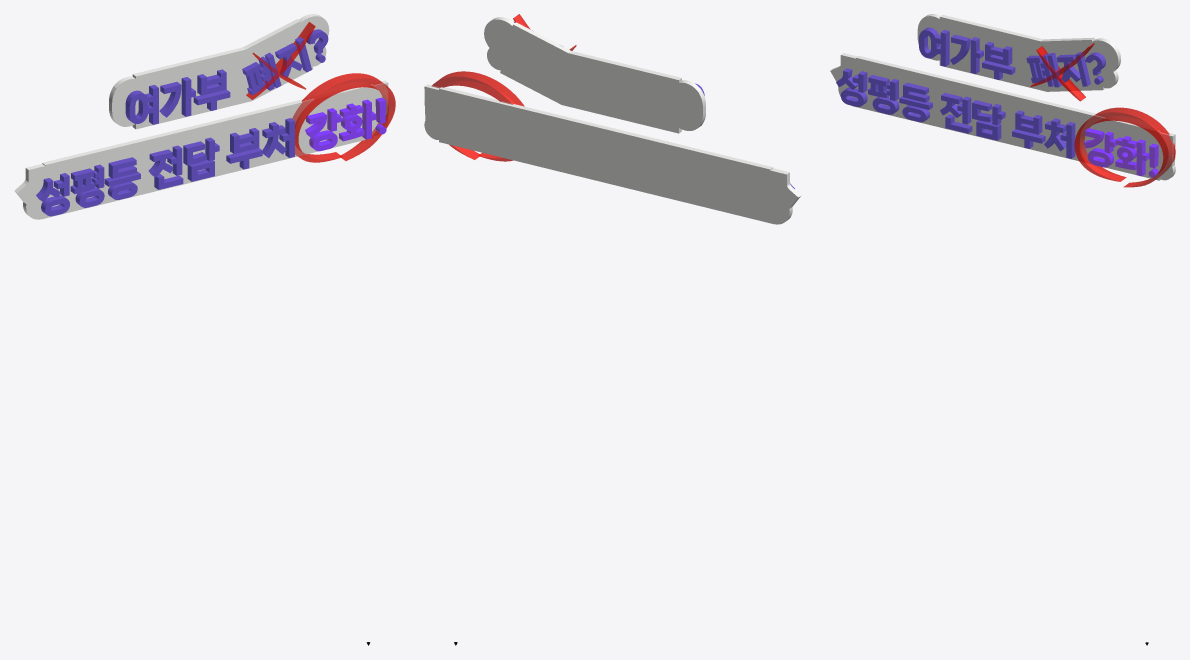
The model's file is yeo1_.glb.
The picture shows the model from 3 angles, left to right: view 1: azimuth 30°, elevation 25°; view 2: azimuth 150°, elevation 25°; view 3: azimuth 330°, elevation 25°; orthographic projection. The views are drawn at different scales.
Visible parts, largest first — view 1: Body46, Body45, Body44, Body23, Body42, Body25, Body33, Body19; view 2: Body46, Body45, Body44; view 3: Body46, Body45, Body44, Body23, Body42, Body33, Body25.
Part boxes in pixels (bbox=[...]): Body46: bbox=[14, 80, 388, 219]; Body45: bbox=[109, 14, 329, 129]; Body44: bbox=[292, 73, 395, 162]; Body23: bbox=[125, 85, 158, 124]; Body42: bbox=[246, 22, 315, 99]; Body25: bbox=[197, 69, 226, 95]; Body33: bbox=[230, 128, 259, 153]; Body19: bbox=[262, 122, 286, 157]; Body46: bbox=[424, 84, 801, 224]; Body45: bbox=[484, 17, 705, 133]; Body44: bbox=[424, 71, 524, 161]; Body46: bbox=[830, 53, 1175, 180]; Body45: bbox=[917, 14, 1120, 91]; Body44: bbox=[1074, 107, 1175, 187]; Body23: bbox=[919, 27, 949, 66]; Body42: bbox=[1030, 43, 1094, 101]; Body33: bbox=[1015, 110, 1042, 134]; Body25: bbox=[985, 41, 1012, 65].
Size of the model in its own units: 1.22 by 2 by 0.0679.
